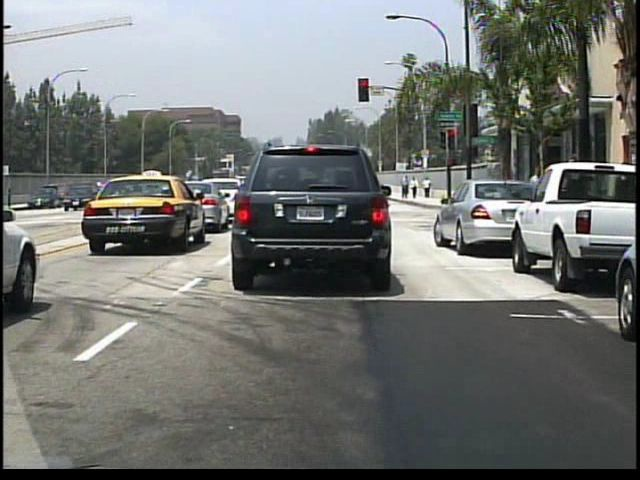person: (422, 174, 433, 200), (401, 174, 410, 199), (410, 175, 419, 200)
